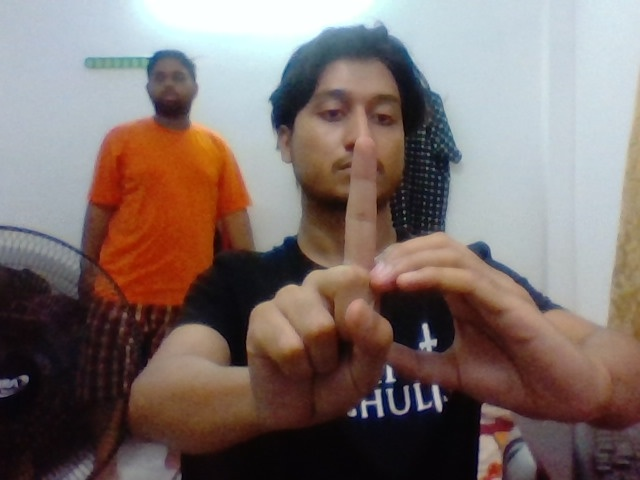D: (305, 123, 510, 394)
